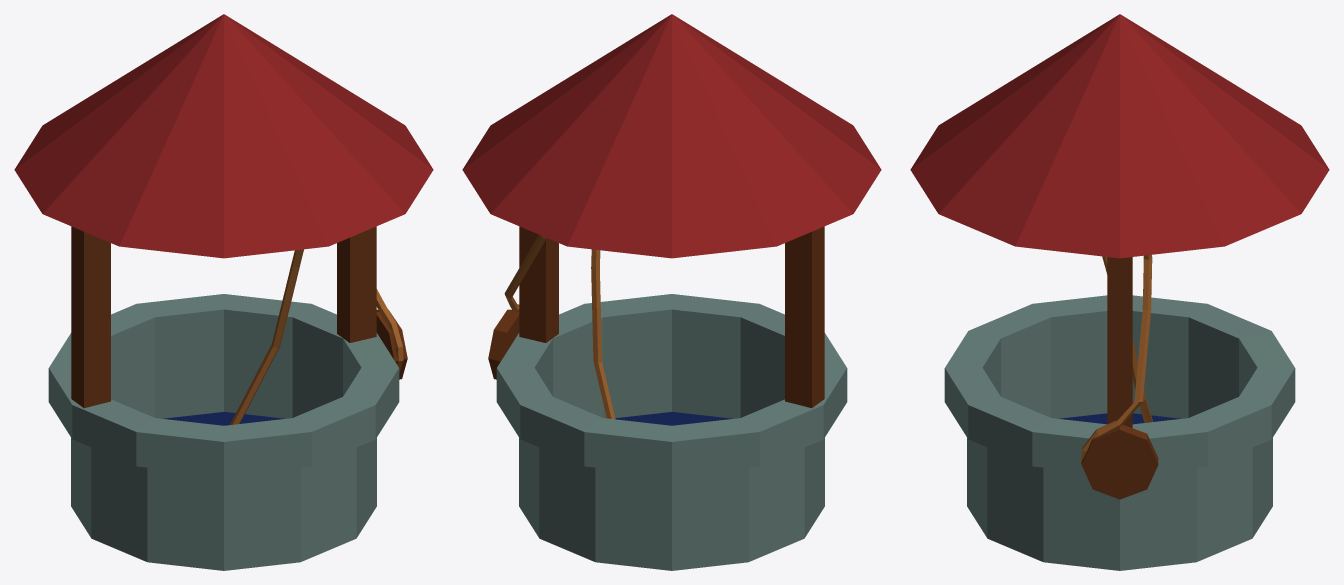
Rendered from poco.fbx.
3 renders of one model, left to right at view 1: azimuth 30°, elevation 25°; view 2: azimuth 150°, elevation 25°; view 3: azimuth 270°, elevation 25°, orthographic.
Parts seen in each view (by area): view 1: Cube; view 2: Cube; view 3: Cube.
Part boxes in pixels (left/top/right/bottom): Cube: left=14, top=14, right=433, bottom=570; Cube: left=462, top=14, right=881, bottom=570; Cube: left=910, top=14, right=1329, bottom=570.
Size of the model in its own units: 274 by 355 by 274.
